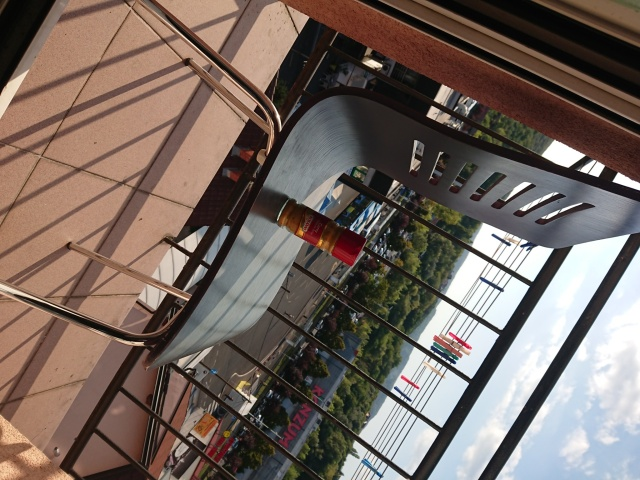Kotanyi Curry Spices Mix 70g: (274, 197, 369, 269)
